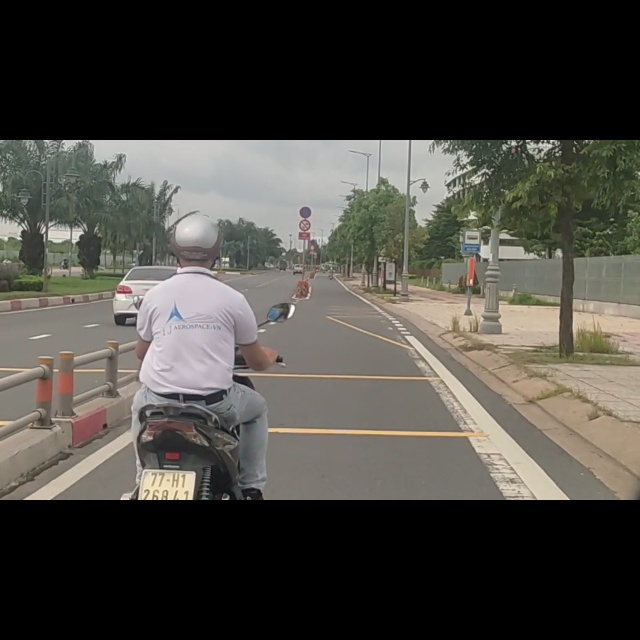bien_cam: (462, 160, 482, 203), (299, 119, 312, 140), (299, 140, 311, 162)
